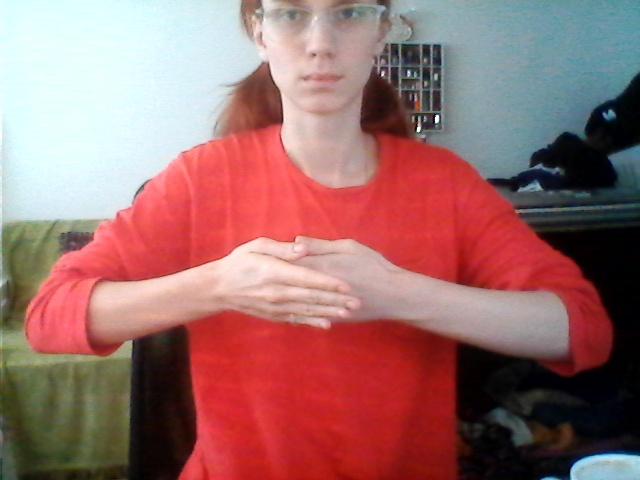dvere: (209, 223, 400, 344)
